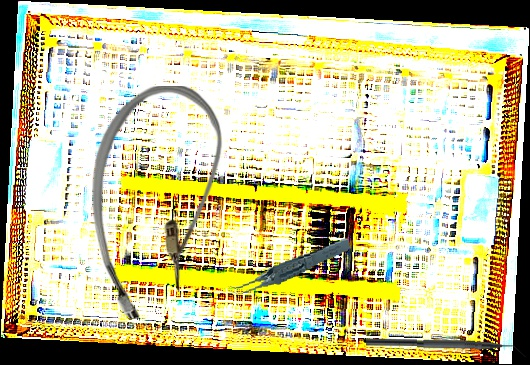Cannula: (92, 86, 223, 319)
Chopper: (365, 337, 527, 360)
Tissue Forceps: (223, 237, 355, 296)
